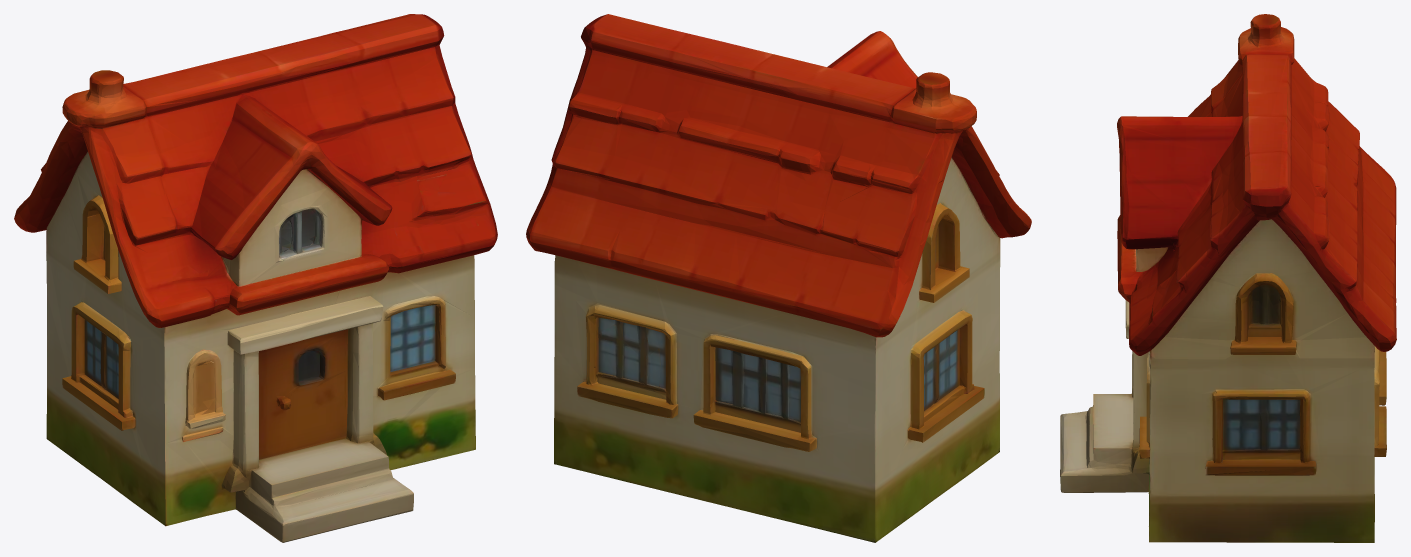
File: red_roof_house.glb
The picture shows the model from 3 angles, left to right: view 1: azimuth 30°, elevation 25°; view 2: azimuth 150°, elevation 25°; view 3: azimuth 270°, elevation 25°; orthographic projection. The views are drawn at different scales.
Visible parts, largest first — view 1: geometry_0; view 2: geometry_0; view 3: geometry_0.
Boxes of the visible parts, left/top/right/bottom form: geometry_0: left=14, top=14, right=497, bottom=542; geometry_0: left=526, top=14, right=1031, bottom=542; geometry_0: left=1060, top=14, right=1396, bottom=542.
Bounding box in the file's own units: 0.9586 × 0.9988 × 0.7969.
1 material, 1 textured.
